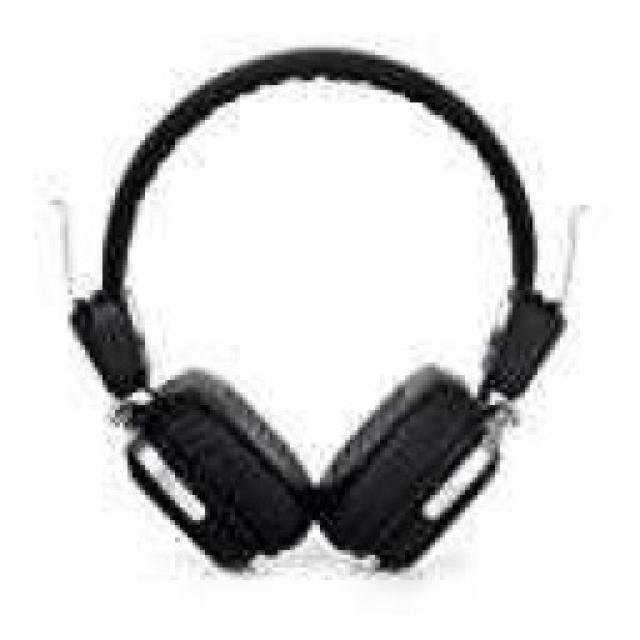headphones: (45, 42, 583, 572)
